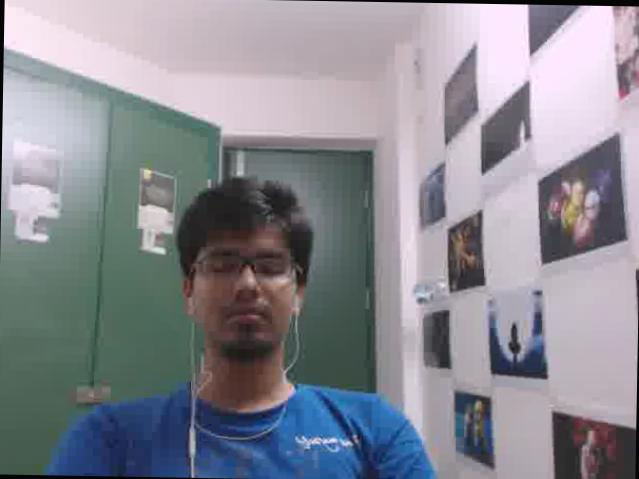bosan: (192, 219, 296, 347)
